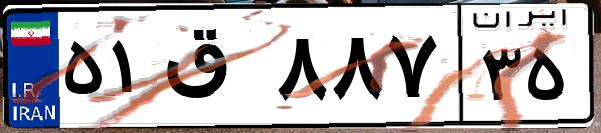1: (110, 28, 158, 98)
3: (475, 38, 525, 113)
5: (57, 26, 110, 100), (525, 38, 570, 115)
7: (385, 28, 445, 110)
8: (270, 28, 330, 110), (330, 28, 385, 110)
ق: (158, 20, 270, 120)
